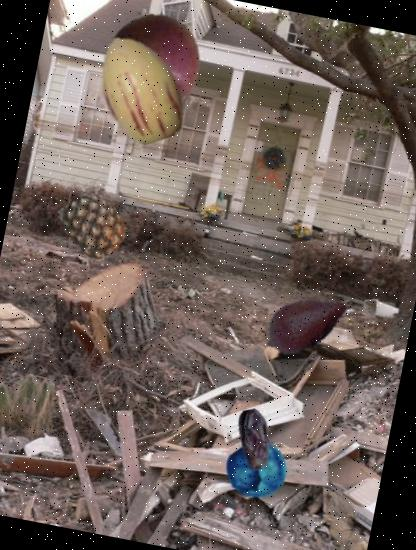Apple: (97, 5, 212, 120)
Dates: (219, 404, 291, 476)
Huckleberry: (221, 435, 292, 505)
Pepino: (75, 23, 205, 153)
Pineapple: (56, 189, 132, 265)
Salak: (251, 268, 358, 375)
